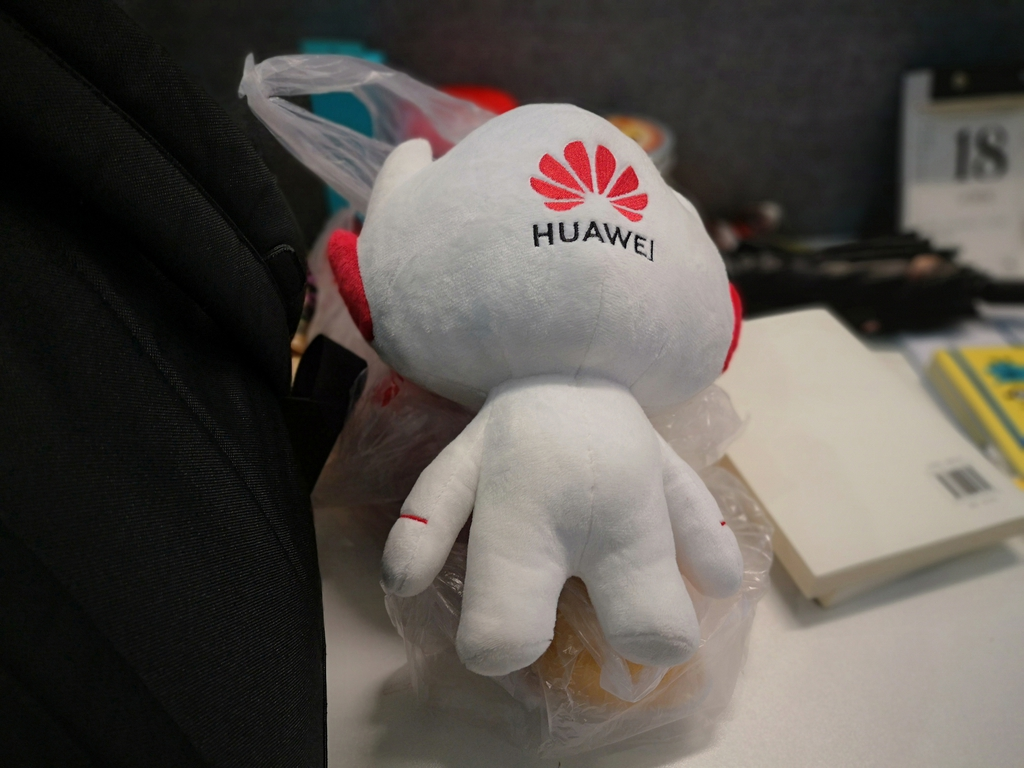yunbao: (335, 94, 806, 691)
